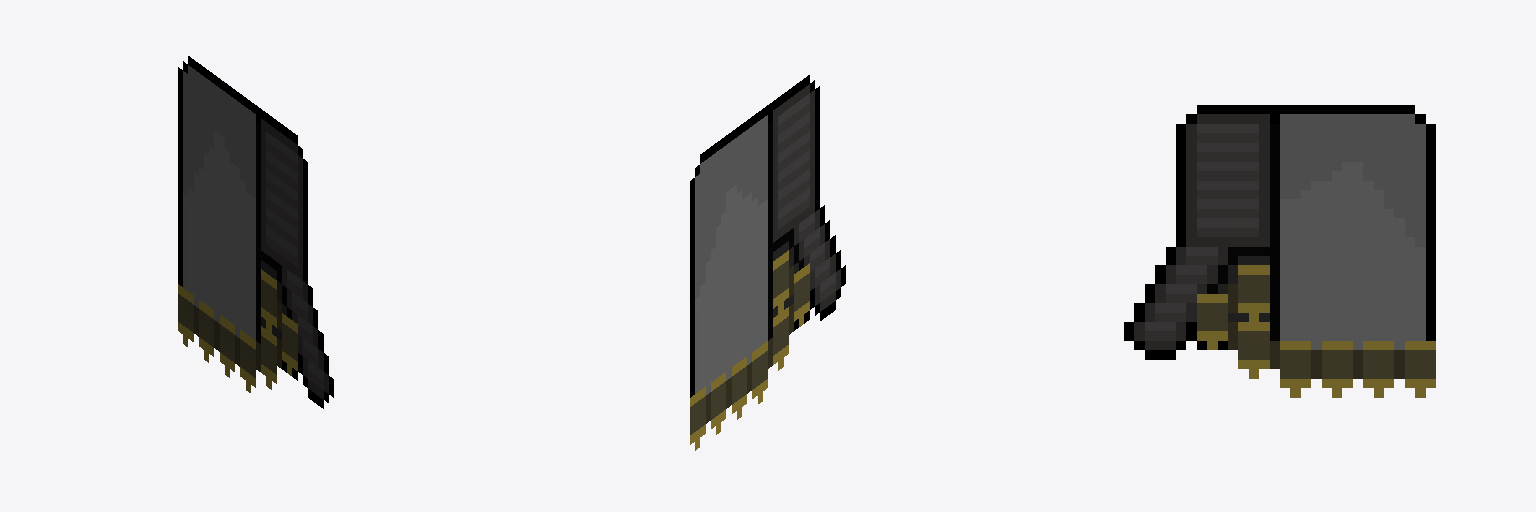
The picture shows the model from 3 angles: view 1: azimuth 30°, elevation 25°; view 2: azimuth 150°, elevation 25°; view 3: azimuth 270°, elevation 25°; orthographic projection.
Visible parts, largest first — view 1: Plane; view 2: Plane; view 3: Plane.
Boxes of the visible parts, x1,y1,x2,y2 form: Plane: [178, 56, 333, 408]; Plane: [690, 75, 845, 450]; Plane: [1124, 105, 1435, 397].
Bounding box in the file's own units: 0 × 3 × 3.
1 materials, 1 textured.